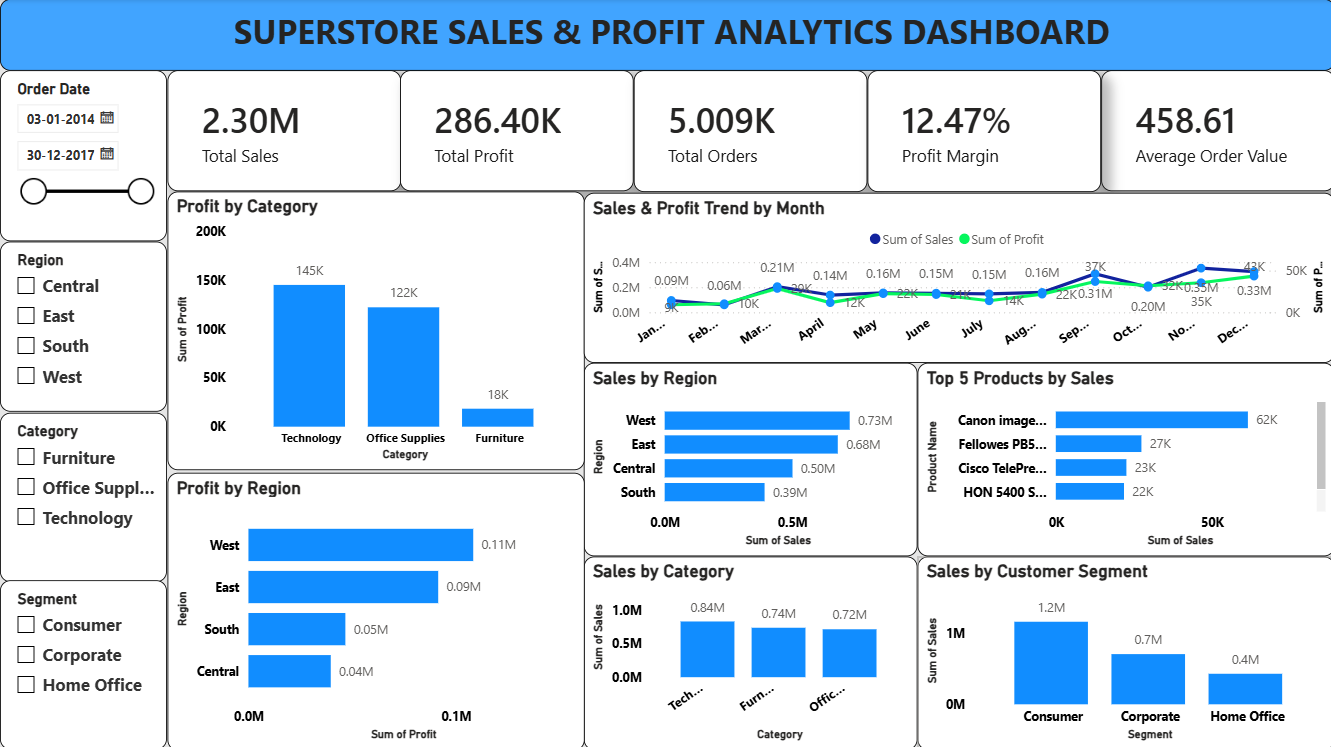

The page's visual inventory and layout, read from the dashboard file:
{"tool":"powerbi","page":{"name":"Page 1","canvas":[1280,720],"ordinal":0},"visuals":[{"type":"cardVisual","fields":{"Data":["Sum(Sample-Superstore.Sales)"]},"box":[160,68.8,223.8,116.2],"z":0},{"type":"cardVisual","fields":{"Data":["Sum(Sample-Superstore.Profit)"]},"box":[383.8,68.8,224,116.2],"z":1000},{"type":"cardVisual","fields":{"Data":["Count(Sample-Superstore.Order ID)"]},"box":[607.9,68.6,224,116.4],"z":2000},{"type":"cardVisual","fields":{"Data":["Sample-Superstore.Average Order Value"]},"box":[1056.2,68.8,224,116.2],"z":3000},{"type":"cardVisual","fields":{"Data":["Sample-Superstore.Profit Margin"]},"box":[832.1,68.6,224,116.4],"z":4000},{"type":"clusteredColumnChart","title":"Sales by Category","fields":{"Category":["Sample-Superstore.Category"],"Y":["Sum(Sample-Superstore.Sales)"]},"box":[560,534.3,320,185.7],"z":5000},{"type":"clusteredBarChart","title":"Sales by Region","fields":{"Category":["Sample-Superstore.Region"],"Y":["Sum(Sample-Superstore.Sales)"]},"box":[560,348.6,320,185.7],"z":6000},{"type":"clusteredColumnChart","title":"Sales by Customer Segment","fields":{"Category":["Sample-Superstore.Segment"],"Y":["Sum(Sample-Superstore.Sales)"]},"box":[880,534.3,400,185.7],"z":7000},{"type":"textbox","box":[0,0,1280,68.8],"z":8000},{"type":"slicer","fields":{"Values":["Sample-Superstore.Region"]},"box":[0,232.9,160,162.9],"z":9000},{"type":"slicer","fields":{"Values":["Sample-Superstore.Category"]},"box":[0,396.2,160,162.5],"z":10000},{"type":"slicer","fields":{"Values":["Sample-Superstore.Segment"]},"box":[0,557.5,160,162.5],"z":11000},{"type":"slicer","fields":{"Values":["Sample-Superstore.Order Date"]},"box":[0,68.8,160,163.8],"z":12000},{"type":"clusteredColumnChart","title":"Profit by Category","fields":{"Category":["Sample-Superstore.Category"],"Y":["Sum(Sample-Superstore.Profit)"]},"box":[160,185,400,267.5],"z":13000},{"type":"clusteredBarChart","title":"Profit by Region","fields":{"Category":["Sample-Superstore.Region"],"Y":["Sum(Sample-Superstore.Profit)"]},"box":[160,453.8,400,266.2],"z":14000},{"type":"clusteredBarChart","title":"Top 5 Products by Sales","fields":{"Category":["Sample-Superstore.Product Name"],"Y":["Sum(Sample-Superstore.Sales)"]},"box":[880,348.6,400,185.7],"z":15000},{"type":"lineChart","title":"Sales & Profit Trend by Month","fields":{"Y":["Sum(Sample-Superstore.Sales)"],"Category":["Sample-Superstore.Order Date.Variation.Date Hierarchy.Month"],"Y2":["Sum(Sample-Superstore.Profit)"]},"box":[560,185.7,720,162.9],"z":16000}]}

Visuals, with their boxes in screenshot pixels (x1, y1, x2, y2), scaled from the page's 1280x720 canvas onto the 1331x747 screenshot:
cardVisual - Sum(Sample-Superstore.Sales): region(166, 71, 399, 192)
cardVisual - Sum(Sample-Superstore.Profit): region(399, 71, 632, 192)
cardVisual - Count(Sample-Superstore.Order ID): region(632, 71, 865, 192)
cardVisual - Sample-Superstore.Average Order Value: region(1098, 71, 1330, 192)
cardVisual - Sample-Superstore.Profit Margin: region(865, 71, 1098, 192)
"Sales by Category" clusteredColumnChart: region(582, 554, 915, 746)
"Sales by Region" clusteredBarChart: region(582, 362, 915, 554)
"Sales by Customer Segment" clusteredColumnChart: region(915, 554, 1330, 746)
textbox: region(0, 0, 1330, 71)
slicer - Sample-Superstore.Region: region(0, 242, 166, 411)
slicer - Sample-Superstore.Category: region(0, 411, 166, 580)
slicer - Sample-Superstore.Segment: region(0, 578, 166, 746)
slicer - Sample-Superstore.Order Date: region(0, 71, 166, 241)
"Profit by Category" clusteredColumnChart: region(166, 192, 582, 469)
"Profit by Region" clusteredBarChart: region(166, 471, 582, 746)
"Top 5 Products by Sales" clusteredBarChart: region(915, 362, 1330, 554)
"Sales & Profit Trend by Month" lineChart: region(582, 193, 1330, 362)
